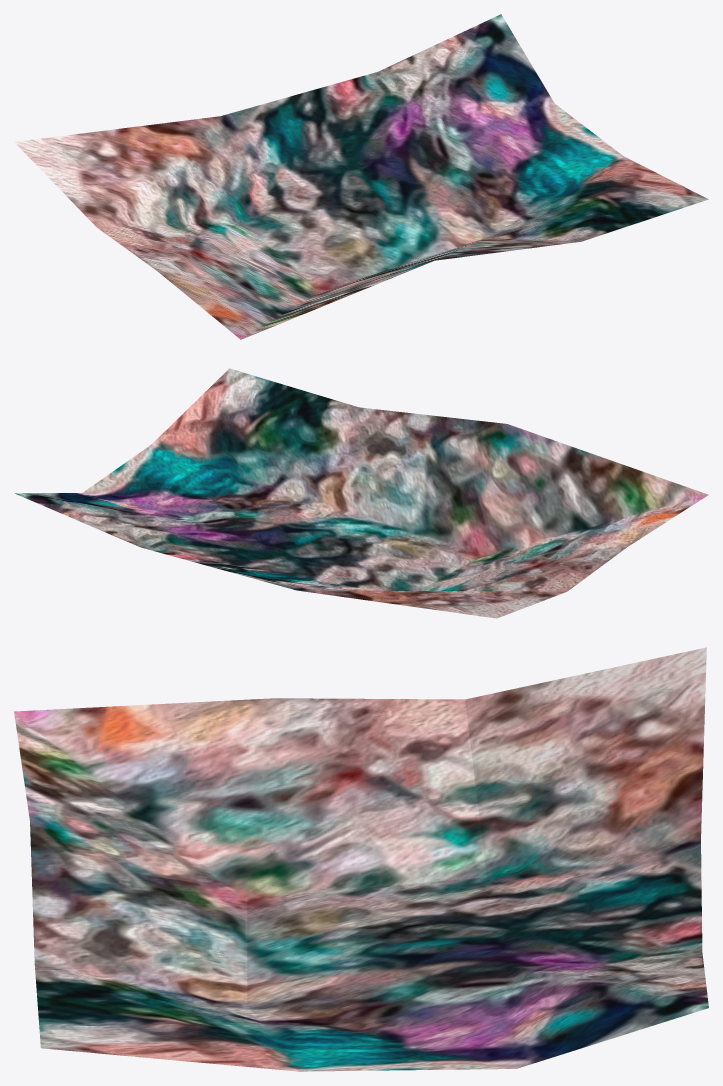
The model's file is Trash_Can_04_Trash.fbx.
The picture shows the model from 3 angles, top to bottom: view 1: azimuth 30°, elevation 25°; view 2: azimuth 150°, elevation 25°; view 3: azimuth 270°, elevation 25°; orthographic projection. The views are drawn at different scales.
Parts seen in each view (by area): view 1: Trash_Can_04_Trash; view 2: Trash_Can_04_Trash; view 3: Trash_Can_04_Trash.
Boxes of the visible parts, x1,y1,x2,y2 form: Trash_Can_04_Trash: (14,14,708,339); Trash_Can_04_Trash: (15,368,708,618); Trash_Can_04_Trash: (14,647,708,1071).
Size of the model in its own units: 50.97 by 9 by 40.06.
